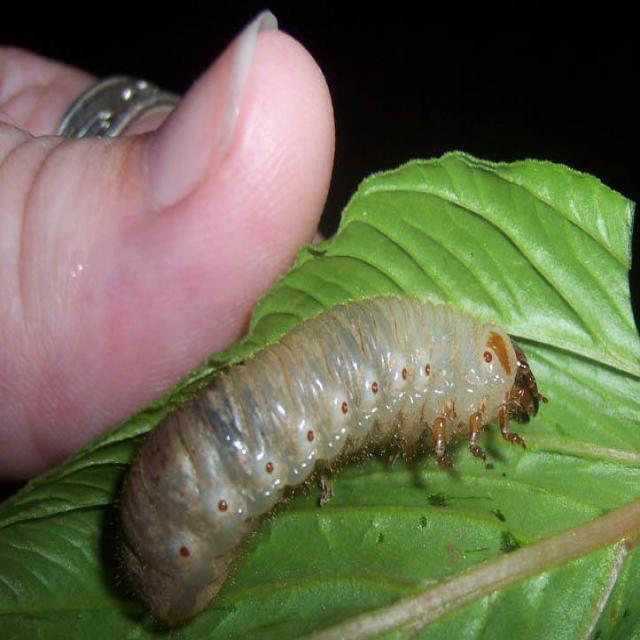Grub-Adult-: (102, 285, 578, 632)
